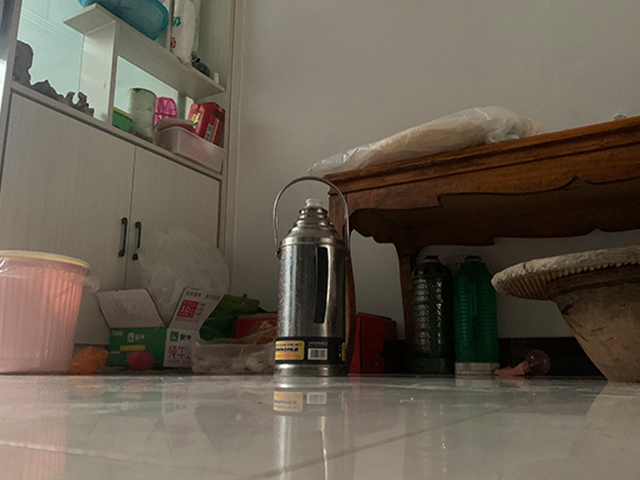cabinet: (1, 77, 227, 354)
table: (323, 114, 640, 370)
trashcan: (1, 250, 90, 375)
